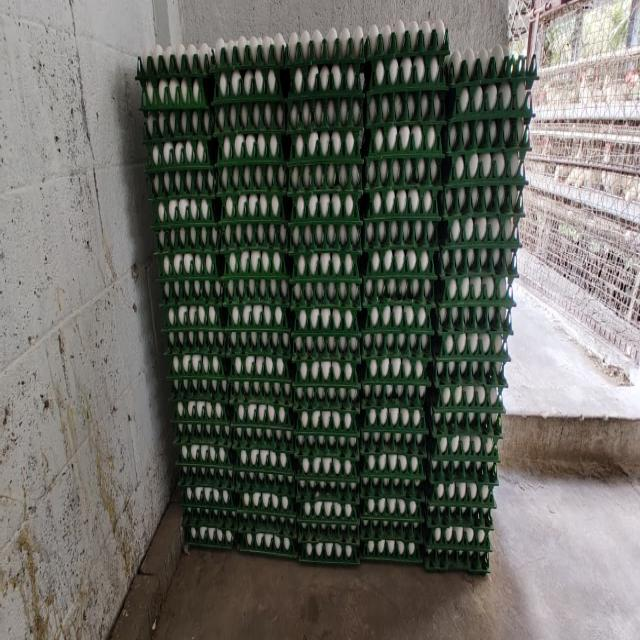egg_tray: (138, 48, 236, 545), (360, 22, 448, 560), (214, 35, 296, 555), (425, 147, 524, 570), (290, 91, 362, 562), (361, 190, 437, 560), (223, 194, 296, 555), (440, 46, 534, 322), (290, 192, 360, 561), (224, 249, 295, 554), (292, 247, 360, 561), (224, 251, 294, 554), (138, 46, 218, 299), (434, 190, 522, 418), (292, 278, 359, 561), (362, 188, 438, 419), (434, 212, 518, 416), (228, 304, 294, 555), (435, 185, 522, 361), (362, 198, 437, 401), (290, 192, 360, 407), (230, 305, 294, 536), (362, 189, 438, 383), (152, 197, 224, 391), (294, 308, 359, 518), (366, 21, 448, 187), (154, 200, 224, 393), (446, 45, 535, 189), (439, 186, 524, 336), (288, 30, 364, 195), (232, 355, 295, 554), (441, 150, 524, 300), (425, 410, 501, 572), (424, 412, 501, 571), (425, 407, 500, 570), (425, 413, 502, 570), (212, 43, 287, 199), (222, 219, 290, 390), (425, 415, 500, 570), (220, 192, 290, 356), (363, 188, 439, 334), (430, 328, 510, 464), (138, 63, 214, 206), (152, 198, 222, 353), (222, 249, 292, 404), (438, 179, 524, 305), (444, 119, 529, 245), (294, 358, 359, 522), (222, 249, 292, 401), (220, 191, 289, 345), (439, 176, 524, 298), (430, 331, 508, 462), (158, 251, 227, 399), (360, 407, 426, 561), (290, 195, 361, 335), (159, 252, 228, 396), (232, 401, 296, 555), (437, 214, 519, 333), (173, 393, 236, 547), (296, 407, 359, 561), (296, 408, 358, 562), (214, 69, 287, 199), (174, 394, 236, 547), (172, 399, 236, 544), (445, 84, 532, 189), (136, 45, 212, 165), (363, 187, 440, 305), (432, 306, 512, 419), (212, 45, 286, 166), (225, 269, 292, 402), (289, 189, 362, 306), (141, 76, 213, 194), (288, 27, 364, 137), (429, 356, 506, 464), (438, 183, 524, 279), (220, 186, 289, 305), (288, 58, 364, 164), (424, 461, 497, 570), (365, 89, 444, 189), (220, 192, 289, 306), (288, 64, 364, 165), (428, 374, 506, 470), (212, 34, 286, 135), (445, 45, 536, 124), (436, 245, 516, 334), (433, 297, 514, 383), (293, 306, 360, 409), (292, 305, 360, 406), (431, 330, 509, 418), (172, 396, 233, 507), (289, 189, 361, 282), (428, 412, 502, 498), (295, 408, 359, 503), (365, 120, 443, 197), (292, 251, 360, 334), (232, 401, 294, 492), (366, 122, 443, 195), (361, 404, 426, 490), (222, 224, 289, 306), (295, 407, 358, 494), (360, 477, 424, 561), (174, 396, 233, 487), (232, 401, 293, 489), (360, 407, 427, 487), (298, 478, 359, 563), (445, 147, 526, 211), (144, 104, 214, 177), (366, 88, 445, 152), (288, 131, 362, 197), (288, 192, 362, 258), (364, 187, 440, 251), (424, 504, 493, 572), (144, 110, 214, 174), (162, 300, 224, 371), (360, 301, 433, 361), (298, 494, 359, 563), (220, 192, 288, 251), (361, 347, 430, 405), (156, 244, 222, 304), (444, 112, 531, 157), (287, 93, 364, 143), (367, 49, 447, 97), (367, 119, 443, 169), (428, 412, 502, 463), (238, 490, 296, 555), (365, 19, 448, 64), (428, 411, 502, 461), (225, 302, 291, 358), (290, 128, 362, 179), (156, 249, 222, 304), (152, 197, 218, 252), (287, 26, 364, 73), (212, 95, 286, 142), (136, 44, 214, 86), (213, 33, 286, 77), (228, 352, 292, 402), (446, 148, 526, 188), (364, 154, 442, 194), (181, 479, 236, 532), (151, 184, 214, 229), (360, 516, 423, 560), (216, 162, 288, 199), (218, 131, 285, 169), (147, 165, 215, 202), (218, 150, 286, 186), (172, 399, 230, 441), (298, 522, 360, 561), (234, 194, 282, 238), (182, 512, 236, 548), (238, 525, 296, 558), (424, 547, 489, 571), (435, 361, 503, 383), (456, 151, 523, 170), (367, 437, 395, 472), (438, 341, 502, 356), (439, 385, 492, 401), (294, 76, 342, 92), (466, 338, 500, 357), (454, 192, 490, 209), (436, 361, 476, 376), (315, 501, 350, 518), (464, 342, 502, 356), (188, 526, 222, 541), (290, 93, 313, 115), (439, 385, 482, 396), (240, 251, 272, 265), (458, 385, 484, 400), (434, 342, 464, 355), (167, 199, 189, 216), (442, 385, 465, 401), (473, 187, 509, 197), (461, 309, 486, 323), (471, 286, 496, 299), (427, 486, 446, 501), (208, 534, 232, 545), (456, 486, 476, 499), (444, 363, 462, 377), (325, 202, 340, 218), (461, 277, 480, 288), (207, 229, 218, 247), (445, 286, 460, 299), (193, 362, 212, 372), (311, 202, 322, 219), (274, 540, 291, 551), (241, 537, 258, 548), (315, 456, 333, 466), (296, 168, 310, 180), (364, 342, 378, 354), (425, 68, 439, 79), (439, 387, 458, 395), (232, 45, 240, 63), (271, 222, 286, 231), (414, 366, 425, 378), (174, 228, 187, 238), (312, 253, 324, 263), (400, 191, 407, 208), (302, 506, 313, 516), (338, 166, 348, 177), (235, 136, 248, 144), (467, 333, 484, 339), (340, 296, 356, 302), (456, 309, 479, 313), (464, 482, 477, 489), (491, 192, 500, 202), (441, 317, 456, 323), (479, 489, 488, 499), (380, 365, 388, 376), (460, 122, 474, 128), (318, 194, 324, 208), (390, 344, 402, 351), (230, 307, 239, 316), (459, 201, 472, 207), (230, 338, 236, 351), (501, 84, 510, 92), (390, 453, 398, 462), (346, 214, 356, 221), (340, 196, 345, 210), (227, 148, 234, 158), (469, 363, 482, 368), (473, 198, 482, 205), (321, 225, 330, 232), (466, 188, 473, 197), (486, 235, 496, 241), (402, 96, 412, 102), (304, 508, 312, 515), (224, 225, 232, 232), (305, 200, 309, 213), (278, 49, 283, 59), (458, 333, 465, 340), (424, 268, 432, 274), (500, 279, 506, 287), (448, 278, 456, 284), (246, 45, 250, 57), (388, 506, 394, 514), (262, 240, 270, 246), (344, 510, 350, 517), (224, 531, 230, 538), (363, 464, 368, 472), (244, 499, 250, 505), (392, 167, 396, 176), (486, 389, 495, 393), (346, 216, 358, 219), (222, 48, 228, 54), (244, 500, 250, 506), (314, 501, 320, 507), (407, 263, 414, 268), (295, 296, 302, 301), (394, 408, 399, 415), (266, 224, 270, 232), (434, 33, 436, 48), (478, 121, 484, 126), (321, 236, 324, 246), (258, 134, 264, 139), (458, 349, 464, 354), (346, 253, 356, 256), (347, 202, 352, 208), (341, 32, 346, 38), (485, 387, 492, 391), (148, 57, 152, 64), (160, 202, 164, 209), (418, 77, 425, 81), (345, 141, 350, 146), (181, 238, 186, 243), (368, 172, 373, 177), (320, 502, 325, 507), (407, 107, 412, 112), (298, 150, 304, 154), (298, 150, 302, 156), (400, 363, 406, 367), (484, 363, 490, 367), (392, 496, 394, 508), (448, 291, 452, 297), (238, 242, 246, 245), (192, 238, 196, 243), (513, 98, 518, 102), (479, 235, 484, 239), (375, 335, 380, 339), (234, 325, 238, 330), (470, 309, 476, 312), (396, 95, 402, 98), (230, 253, 236, 256), (450, 349, 456, 352), (413, 459, 416, 465), (398, 511, 404, 514), (512, 197, 516, 201), (306, 148, 314, 150), (330, 205, 334, 209), (272, 135, 276, 139), (207, 58, 209, 66), (482, 485, 486, 489), (446, 485, 450, 489), (416, 190, 418, 198), (324, 227, 328, 231), (494, 363, 502, 365), (336, 514, 341, 517), (283, 504, 286, 509), (341, 200, 344, 205), (169, 64, 174, 67), (299, 252, 304, 255), (399, 443, 404, 446), (423, 344, 428, 347), (340, 141, 342, 148), (436, 376, 438, 383), (419, 464, 421, 471), (233, 176, 239, 178), (307, 298, 313, 300), (475, 122, 477, 128), (176, 363, 180, 366), (322, 288, 326, 291), (334, 151, 338, 154), (388, 363, 392, 366), (194, 79, 200, 81), (346, 195, 352, 197), (324, 194, 328, 197), (274, 541, 277, 545), (276, 142, 280, 145), (458, 483, 462, 486), (482, 388, 486, 391), (312, 196, 316, 199), (158, 202, 160, 208), (344, 504, 350, 506), (378, 81, 382, 84), (290, 120, 292, 126), (318, 78, 322, 81), (489, 504, 493, 507), (380, 175, 382, 180), (496, 334, 498, 339), (278, 201, 280, 206), (314, 258, 316, 263), (324, 71, 326, 76), (378, 453, 388, 454), (482, 308, 487, 310), (527, 90, 530, 93), (501, 376, 504, 379), (487, 336, 490, 339), (283, 505, 286, 508), (464, 363, 467, 366), (456, 528, 459, 531), (216, 504, 224, 505), (323, 139, 325, 143), (356, 140, 358, 144), (182, 79, 186, 81), (196, 512, 200, 514), (400, 468, 402, 472), (258, 80, 260, 84), (252, 77, 254, 81), (227, 226, 231, 228), (234, 209, 238, 211), (320, 148, 323, 150), (478, 87, 481, 89), (488, 124, 491, 126), (196, 230, 198, 233), (280, 52, 282, 55), (480, 487, 482, 490), (227, 77, 230, 79), (424, 98, 426, 101), (448, 327, 450, 330), (478, 532, 481, 534), (414, 467, 416, 470), (412, 441, 414, 444), (319, 69, 322, 71), (388, 338, 394, 339), (256, 151, 261, 152), (188, 230, 190, 232), (302, 320, 304, 322), (414, 192, 416, 194), (454, 397, 458, 398), (335, 218, 339, 219), (208, 522, 210, 524), (239, 160, 241, 162), (358, 84, 360, 86), (249, 196, 253, 197), (390, 128, 392, 130), (486, 372, 488, 374), (467, 366, 471, 367), (312, 70, 313, 74), (397, 173, 398, 176), (182, 366, 183, 369), (494, 390, 497, 391), (250, 142, 253, 143), (429, 194, 430, 197), (283, 497, 286, 498), (447, 528, 448, 531), (323, 66, 326, 67), (195, 355, 197, 356), (202, 243, 204, 244), (162, 243, 164, 244), (275, 505, 277, 506), (168, 231, 170, 232), (317, 506, 319, 507), (324, 153, 326, 154), (311, 196, 313, 197), (454, 398, 455, 400), (437, 387, 439, 388), (240, 43, 242, 44), (341, 182, 342, 184), (200, 188, 202, 189), (313, 176, 315, 177), (273, 196, 275, 197), (392, 125, 394, 126), (464, 297, 466, 298), (438, 363, 440, 364), (327, 333, 329, 334), (235, 154, 237, 155), (298, 75, 300, 76), (412, 351, 414, 352), (250, 207, 252, 208), (452, 309, 454, 310), (327, 309, 328, 310), (501, 198, 502, 199), (445, 284, 446, 285), (227, 540, 228, 541), (276, 218, 277, 219), (407, 443, 408, 444), (363, 431, 364, 432), (170, 310, 170, 312), (325, 514, 330, 514), (457, 529, 457, 530), (403, 263, 403, 264), (157, 48, 157, 48), (358, 296, 358, 297), (327, 145, 327, 149), (520, 207, 520, 210), (490, 141, 490, 142), (479, 63, 479, 66), (463, 132, 463, 133), (490, 128, 490, 130), (436, 246, 436, 247), (370, 209, 370, 210), (469, 394, 471, 394), (392, 370, 392, 372), (259, 285, 259, 286), (465, 398, 465, 399), (474, 391, 474, 392), (470, 390, 470, 394), (223, 231, 223, 232), (512, 258, 512, 258), (354, 80, 354, 82), (319, 78, 319, 79), (398, 372, 400, 372), (232, 368, 232, 368), (410, 204, 410, 206), (394, 193, 394, 194), (418, 198, 418, 201), (337, 261, 337, 265), (343, 213, 343, 214), (477, 368, 477, 369), (498, 292, 499, 292), (370, 102, 370, 107), (492, 340, 492, 342), (472, 328, 472, 328), (449, 314, 450, 314), (487, 536, 487, 538), (381, 424, 381, 424), (298, 198, 298, 200), (339, 111, 339, 112), (321, 87, 321, 88), (303, 34, 303, 35), (283, 541, 283, 543), (294, 528, 294, 529), (230, 334, 230, 336), (228, 325, 228, 329), (234, 148, 234, 150)
